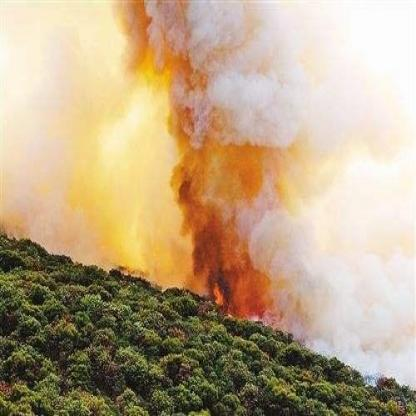Fire: (67, 15, 195, 291), (210, 234, 274, 320)
